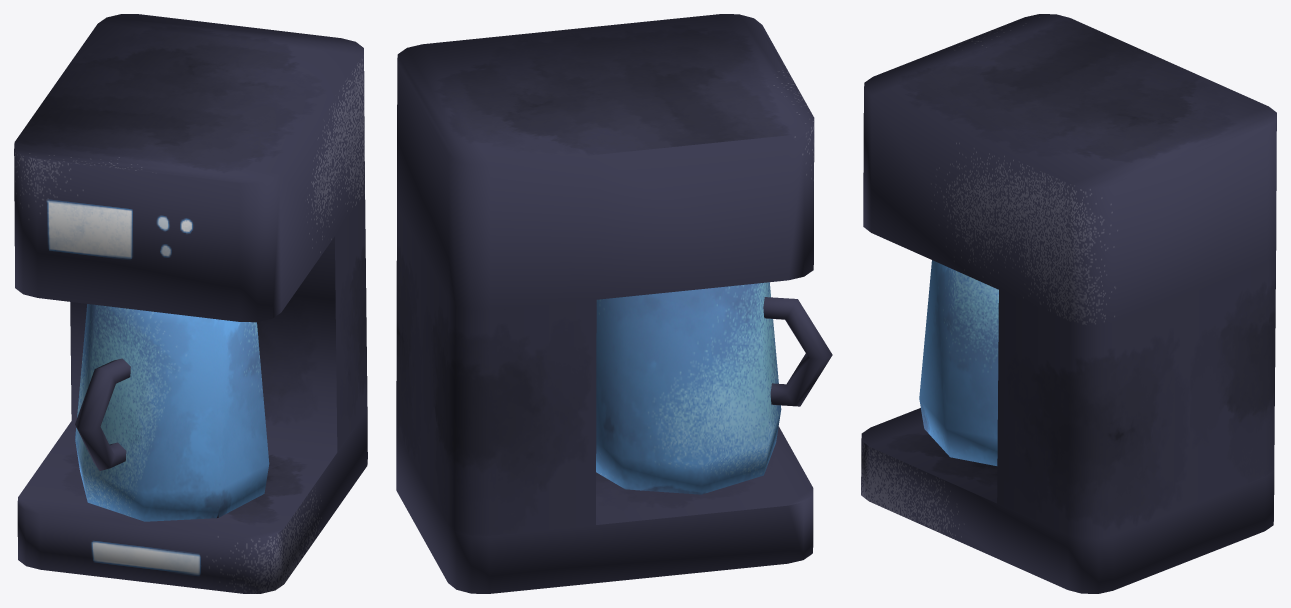
Rendered from 02-cafetierefiltre-model.glb.
3 renders of one model, left to right at view 1: azimuth 30°, elevation 25°; view 2: azimuth 150°, elevation 25°; view 3: azimuth 270°, elevation 25°, orthographic. The views are drawn at different scales.
Parts seen in each view (by area): view 1: 02-cafetierefiltre-model; view 2: 02-cafetierefiltre-model; view 3: 02-cafetierefiltre-model.
Boxes of the visible parts, x1,y1,x2,y2 form: 02-cafetierefiltre-model: [14, 14, 367, 593]; 02-cafetierefiltre-model: [396, 14, 832, 593]; 02-cafetierefiltre-model: [861, 14, 1276, 593].
Size of the model in its own units: 4.19 by 4.49 by 4.16.
1 material, 1 textured.
